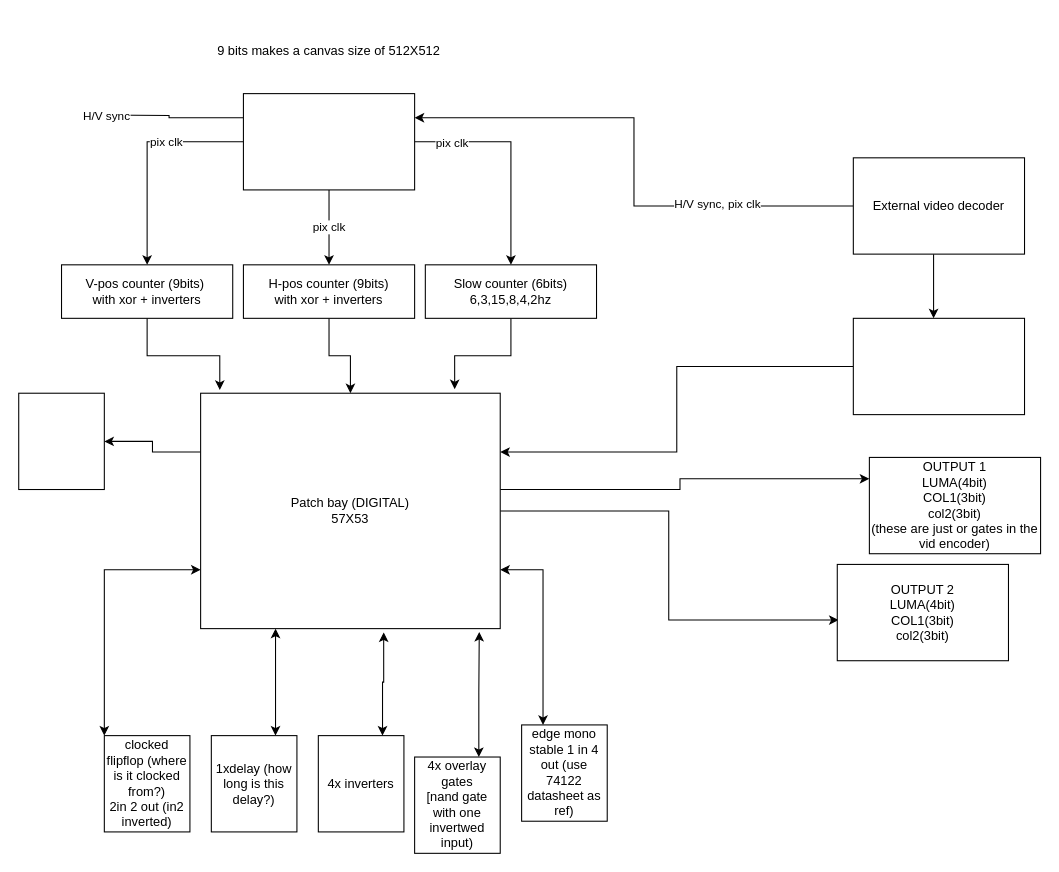
Image size: 1059x872. Some labels were removed from this diagram. Here are the shapes that lost their labels. From the top down, the box of each, then its label:
(242, 93, 415, 190): Video Sync Generator/ external sync mux
(852, 317, 1025, 415): Comparator with spacing control (7bits)
(18, 392, 104, 490): COLOR SWAP ?? WHAT IS THIS?
